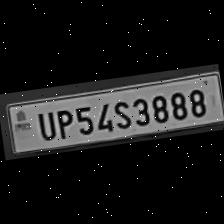3: (128, 94, 150, 128)
4: (92, 99, 114, 134)
5: (71, 102, 94, 136)
8: (184, 84, 209, 120), (147, 90, 171, 124), (166, 88, 189, 122)
P: (52, 106, 74, 140)
S: (110, 96, 134, 131)
U: (32, 107, 56, 142)
